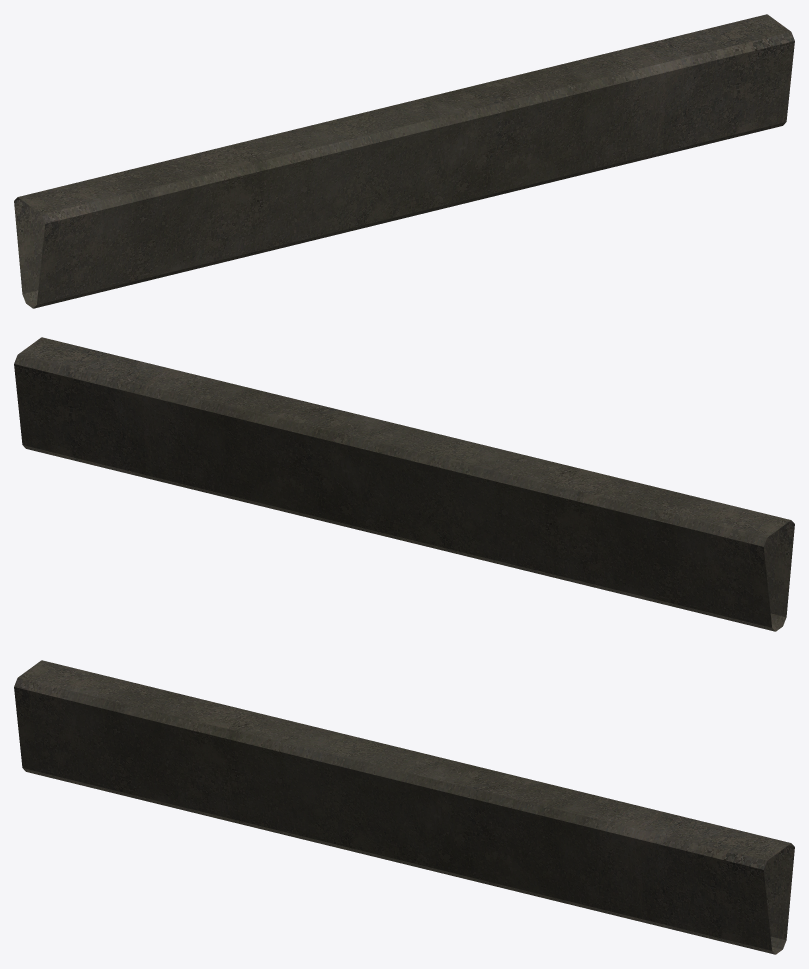
The model's file is beam_3.glb.
3 renders of one model, top to bottom at view 1: azimuth 30°, elevation 25°; view 2: azimuth 150°, elevation 25°; view 3: azimuth 330°, elevation 25°, orthographic.
Visible parts, largest first — view 1: beam_3; view 2: beam_3; view 3: beam_3.
Boxes of the visible parts, x1,y1,x2,y2 form: beam_3: (14,14,794,308); beam_3: (14,337,794,631); beam_3: (14,660,794,954).
Bounding box in the file's own units: 3.6 × 0.46 × 0.26.
1 material, 1 textured.
